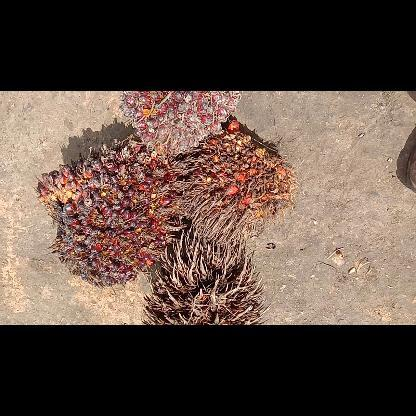Janjang kosong: (139, 224, 271, 324)
Kurang masak: (118, 91, 244, 155)
TBS masak: (34, 140, 176, 288)
Terlalu masak: (169, 118, 299, 248)
